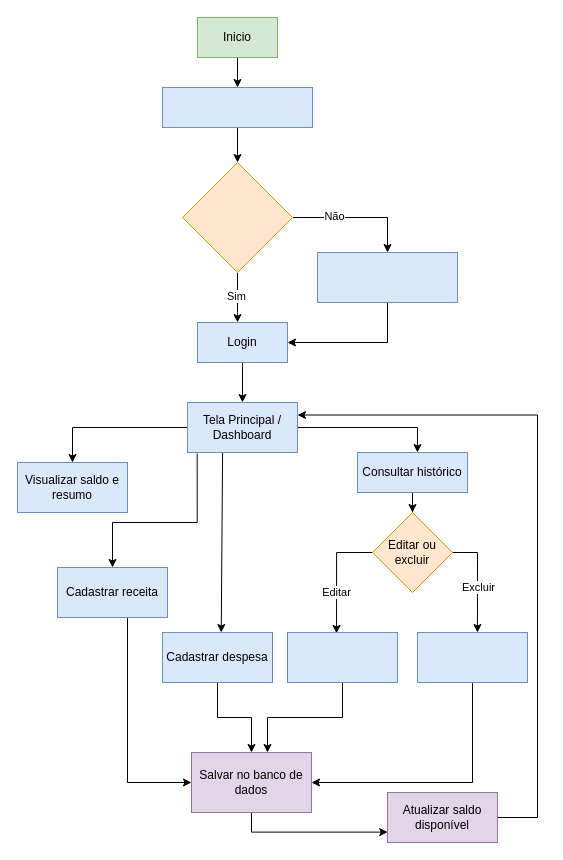
Image size: 563x860. Some labels were removed from this diagram. Here are the shapes that lost their labels. From the top down, the box of each, then its label:
(162, 86, 312, 128): Tela de Cadastro/Login
(182, 162, 292, 272): Usuário já tem conta?
(316, 252, 458, 302): Cadastrar novo usuário
(286, 632, 398, 682): Atualizar registro
(416, 632, 528, 682): Remover registro
